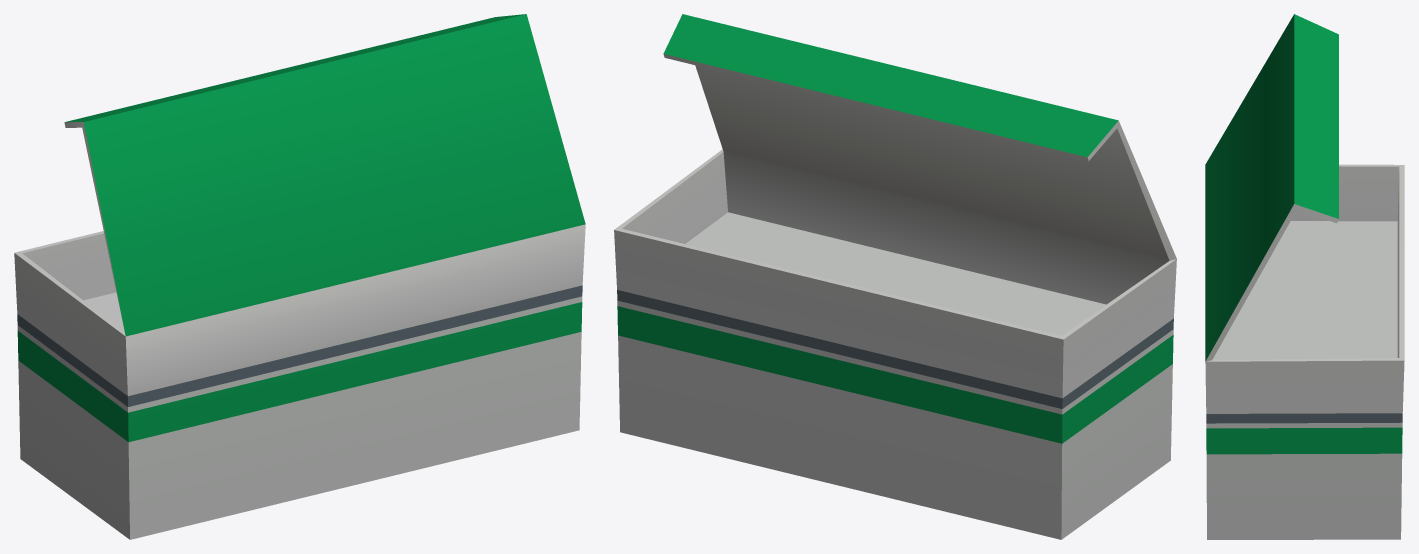
The model's file is Pfb_JLAB_Mask_Box__2.fbx.
3 renders of one model, left to right at view 1: azimuth 30°, elevation 25°; view 2: azimuth 150°, elevation 25°; view 3: azimuth 270°, elevation 25°, orthographic. The views are drawn at different scales.
Parts seen in each view (by area): view 1: Color; view 2: Color; view 3: Color.
Part boxes in pixels (x1,y1,x2,y2): Color: (14,14,585,539); Color: (614,14,1176,539); Color: (1205,14,1404,539).
Size of the model in its own units: 0.2698 by 0.2134 by 0.115.
Materials: 1 (1 with a texture image).
